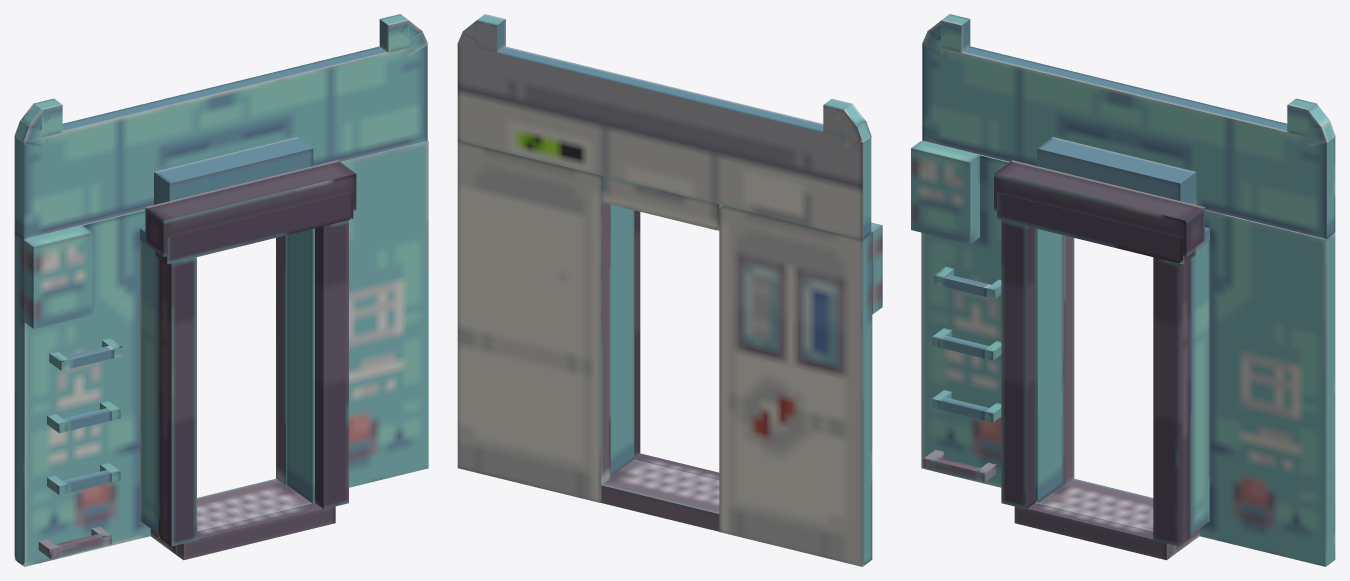
The model's file is end_face_original_25z_1.obj.
3 renders of one model, left to right at view 1: azimuth 30°, elevation 25°; view 2: azimuth 150°, elevation 25°; view 3: azimuth 330°, elevation 25°, orthographic.
Visible parts, largest first — view 1: cube; view 2: cube; view 3: cube.
Part boxes in pixels (box(x1,y1,x2,y2)): cube: box(14, 14, 428, 566); cube: box(457, 14, 882, 566); cube: box(911, 14, 1335, 566).
Size of the model in its own units: 3 by 3.19 by 0.5562.
